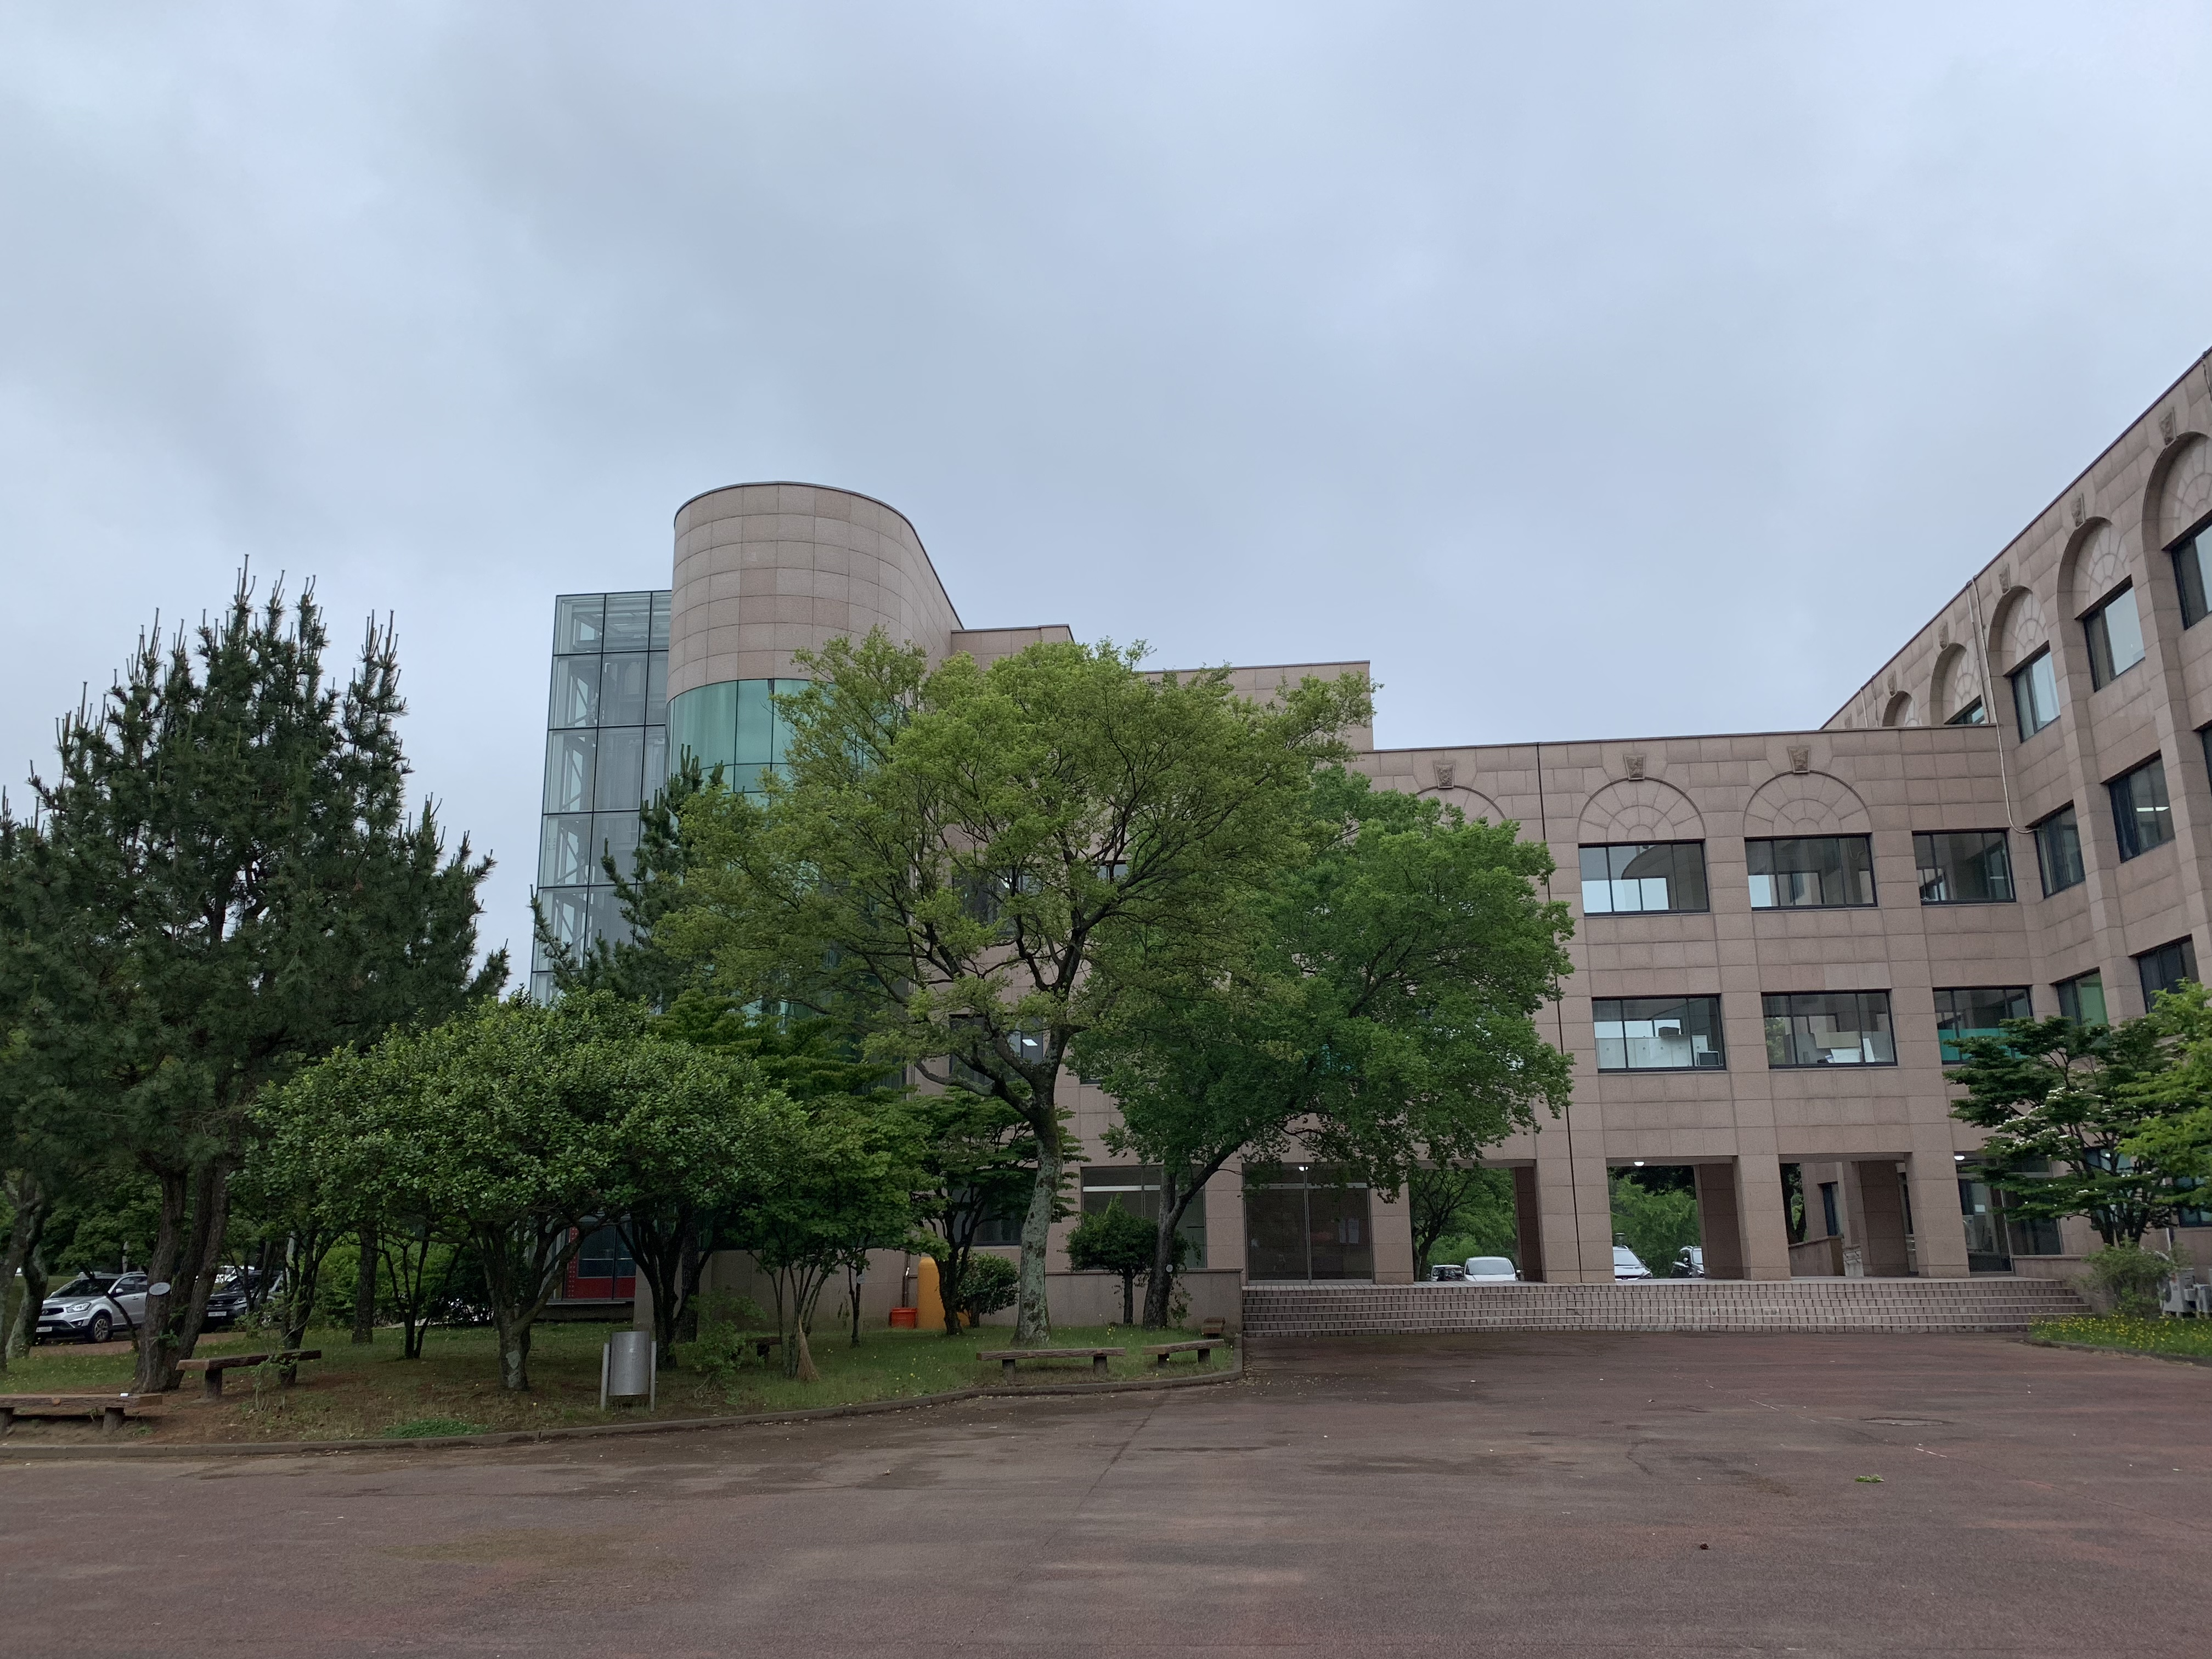Joint Experimental Labs: (477, 448, 899, 969)
Natural Science2: (1904, 380, 2212, 1326)
